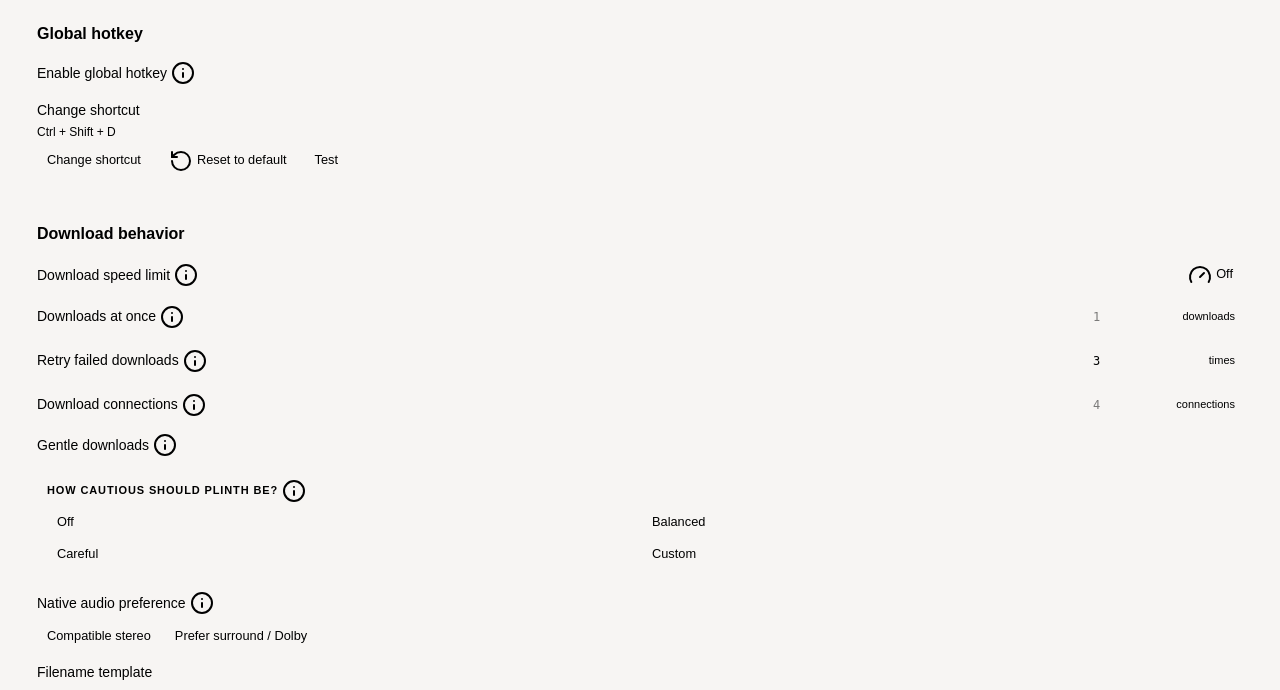
Test: download connections setting › rejects an automatic retry budget above the maximum
This screenshot has width=1280, height=690.
(page scrolled)
In the number field with test id "auto-retry-input": (1146, 360) [1083, 344, 1209, 376], type "99"
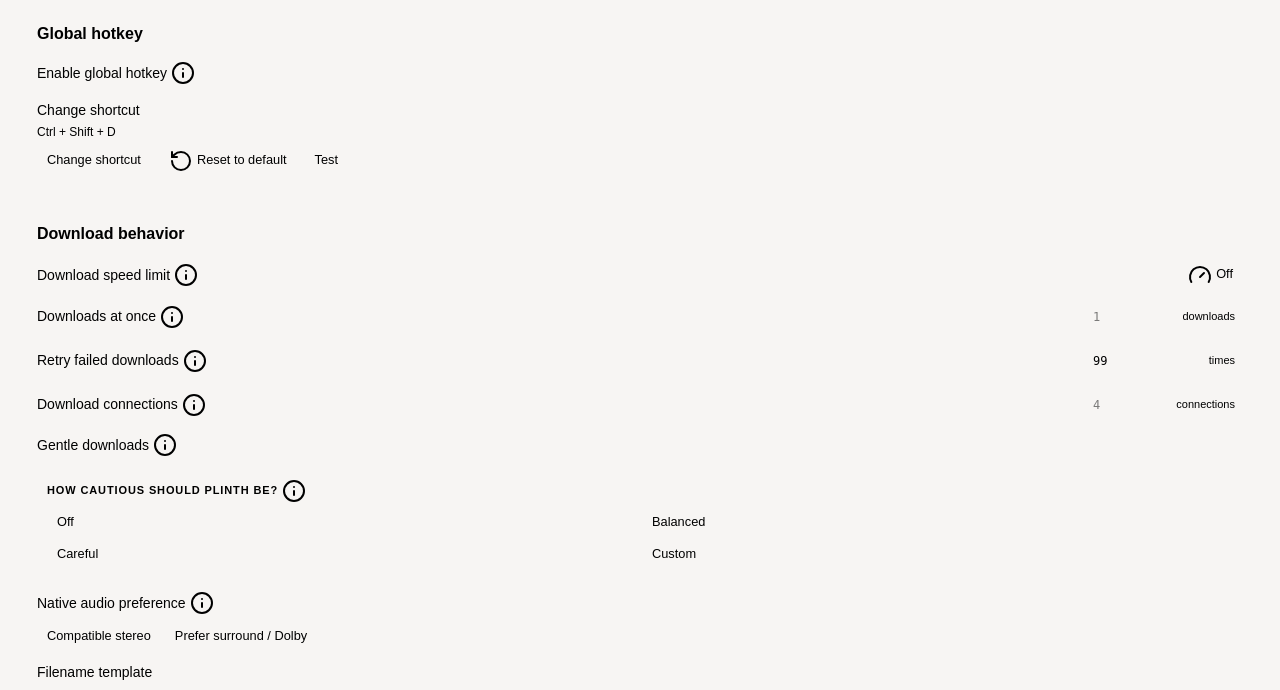
Leave the number field with test id "auto-retry-input", box [1083, 344, 1209, 376]
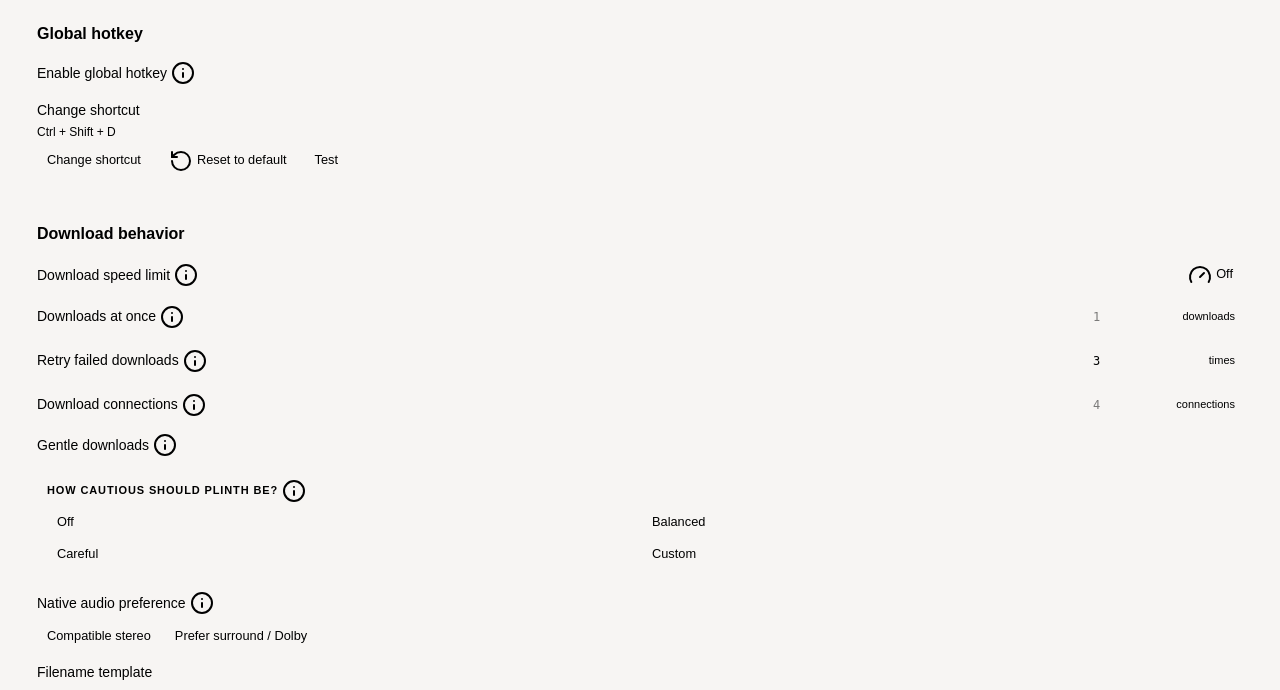
Check: the number field with test id "auto-retry-input" holds "3", box [1083, 344, 1209, 376]
